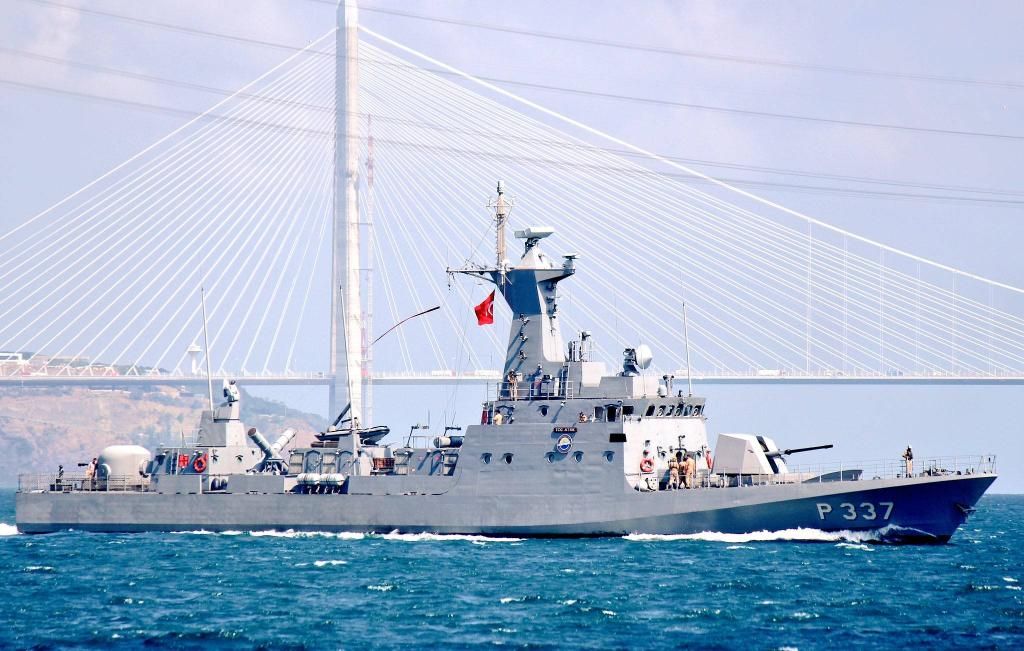Warship: (12, 172, 1004, 556)
